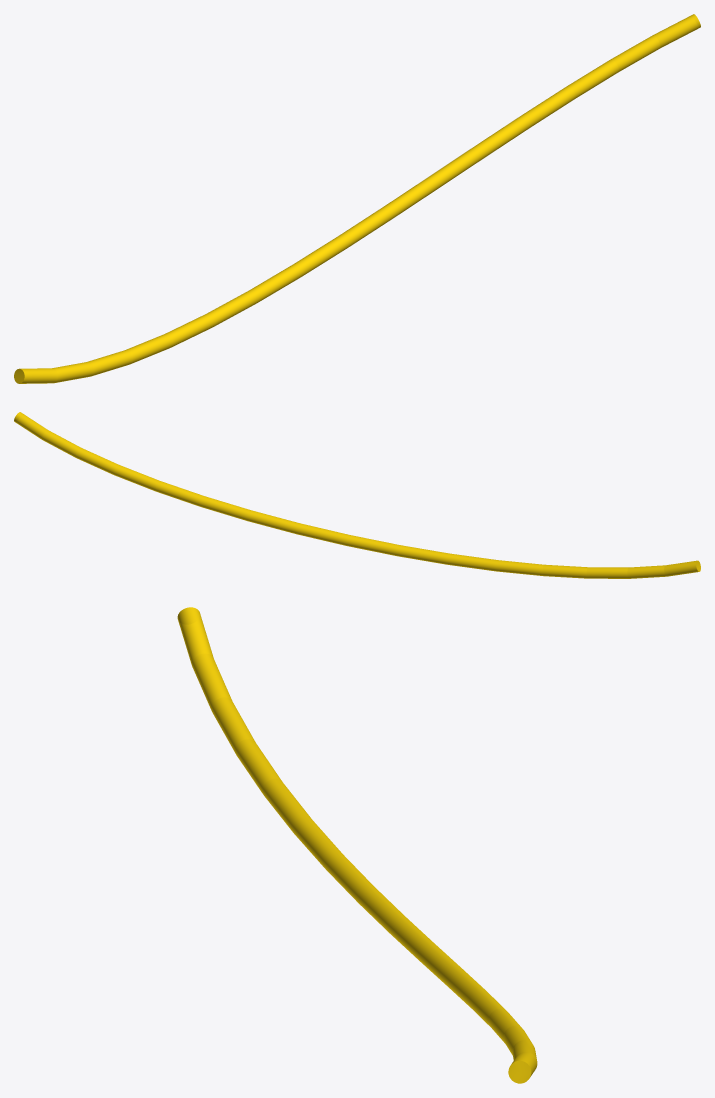
The model's file is Event_421556567_track_26.fbx.
3 views of the same model, one above another, from view 1: azimuth 30°, elevation 25°; view 2: azimuth 150°, elevation 25°; view 3: azimuth 270°, elevation 25° (orthographic). The views are drawn at different scales.
Parts seen in each view (by area): view 1: Model; view 2: Model; view 3: Model.
Boxes of the visible parts, box(x1,y1,x2,y2) form: Model: box(14, 14, 700, 383); Model: box(14, 412, 700, 578); Model: box(177, 607, 537, 1083).
Bounding box in the file's own units: 2.4 × 0.3641 × 0.6227.
